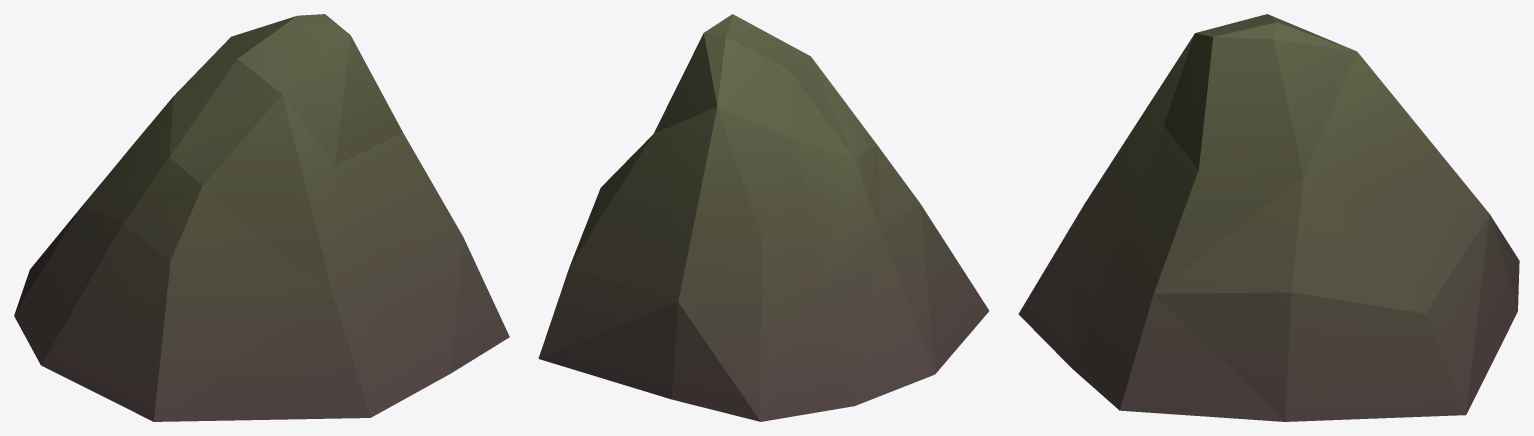
Rendered from Rock_Desert_01_Small_0_1.fbx.
3 views of the same model, side by side, from view 1: azimuth 30°, elevation 25°; view 2: azimuth 150°, elevation 25°; view 3: azimuth 270°, elevation 25° (orthographic). The views are drawn at different scales.
Visible parts, largest first — view 1: floe-deep.024; view 2: floe-deep.024; view 3: floe-deep.024.
Part boxes in pixels (<box>): floe-deep.024: <box>14,14,509,421</box>; floe-deep.024: <box>538,14,989,421</box>; floe-deep.024: <box>1018,14,1519,421</box>.
Size of the model in its own units: 193 by 145 by 197.
